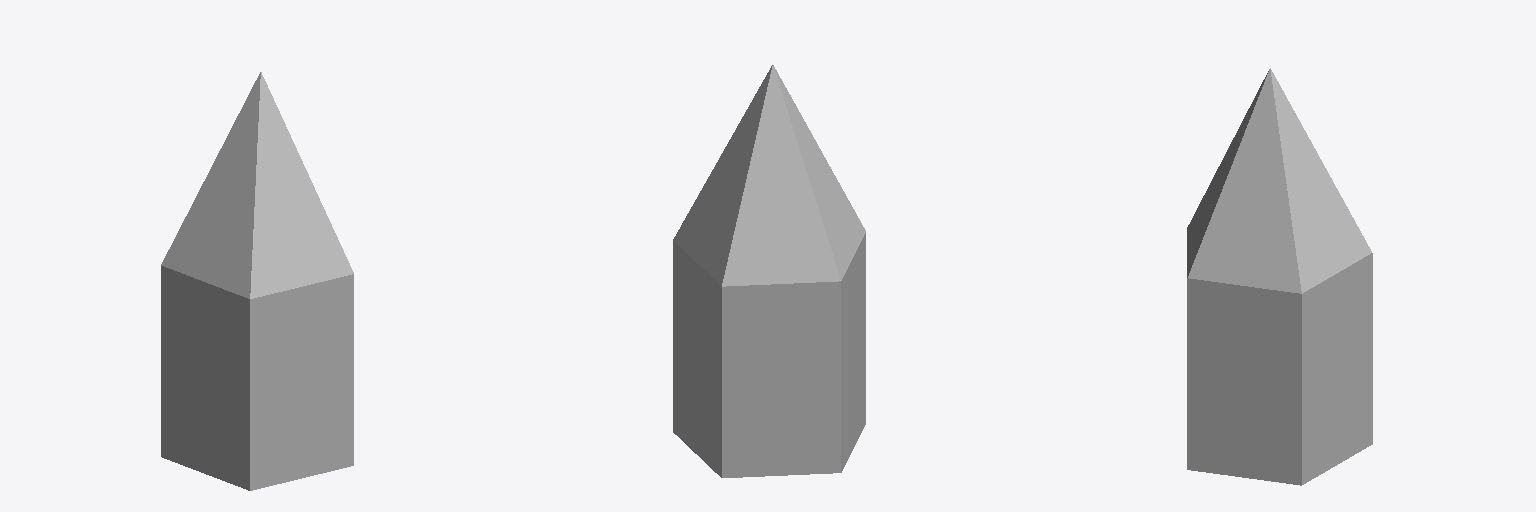
The model's file is bullet.obj.
3 views of the same model, side by side, from view 1: azimuth 30°, elevation 25°; view 2: azimuth 150°, elevation 25°; view 3: azimuth 270°, elevation 25° (orthographic).
Parts seen in each view (by area): view 1: Cone_Cone.001; view 2: Cone_Cone.001; view 3: Cone_Cone.001.
Part boxes in pixels (left/top/right/bottom): Cone_Cone.001: left=161, top=72, right=353, bottom=490; Cone_Cone.001: left=673, top=65, right=865, bottom=477; Cone_Cone.001: left=1187, top=68, right=1372, bottom=485.
Size of the model in its own units: 1.9 by 4.07 by 1.81.